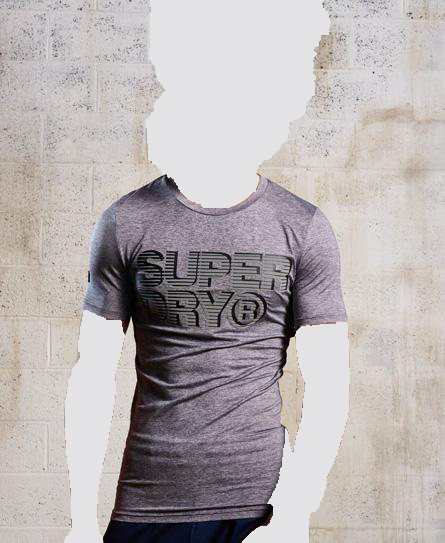teeshirt: (79, 174, 355, 524)
